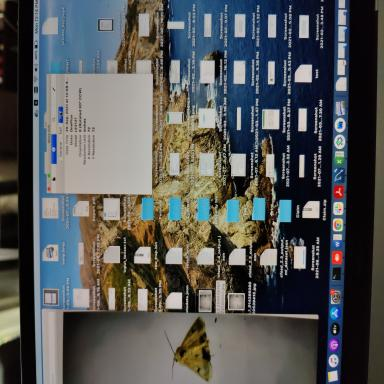abw: (163, 316, 214, 382)
